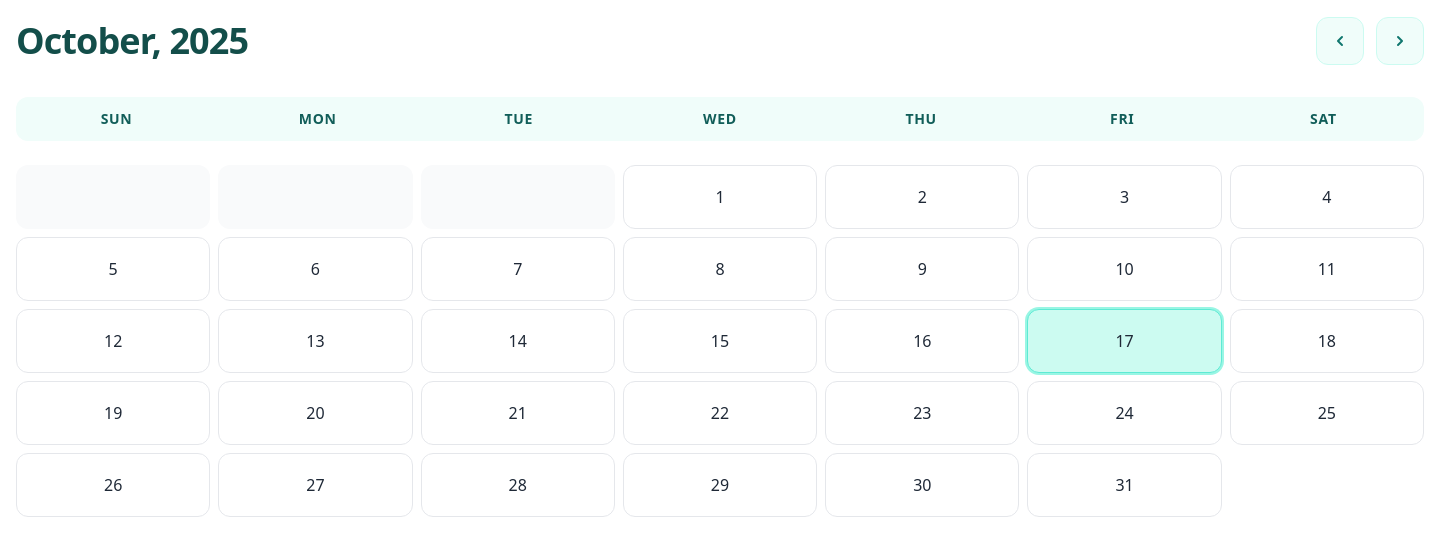
Scenario: Calendar Component › navigates to previous month when left arrow clicked
Click left arrow
Step 1. Click the 1st button → (1340, 41), box [1316,17,1364,65]
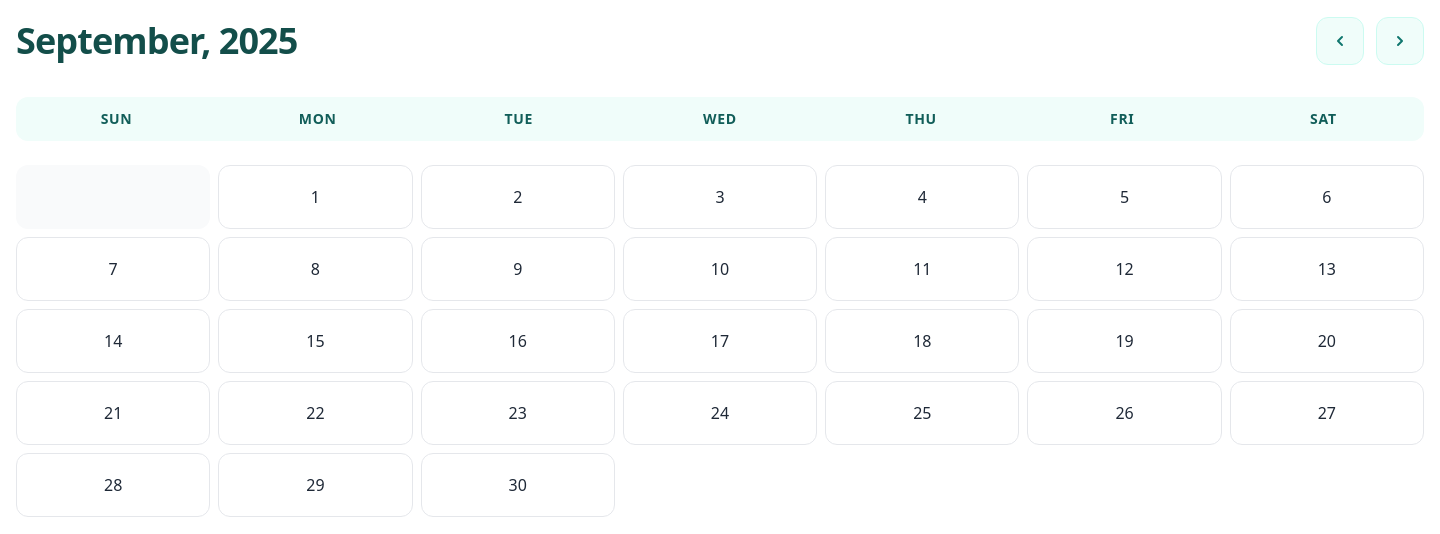
Check: the heading shows "September", box [16,16,201,65]
